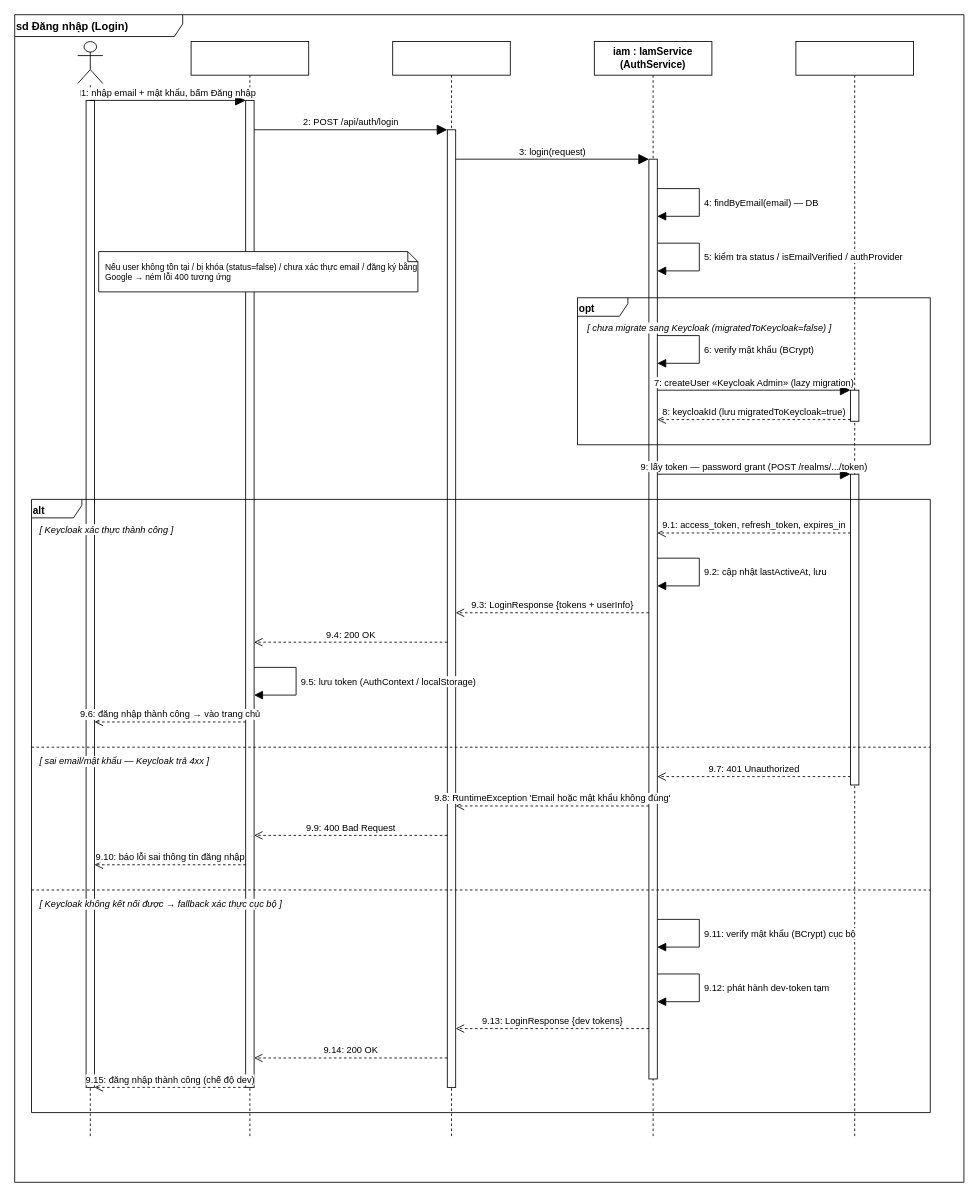
This 979x1197 diagram has some shape labels left out. Each missing label, with the box of its shape:
gw : ApiGateway: (392, 41, 510, 1138)
kc : Keycloak «external»: (795, 41, 914, 1138)
login : LoginPage: (190, 41, 309, 1138)
